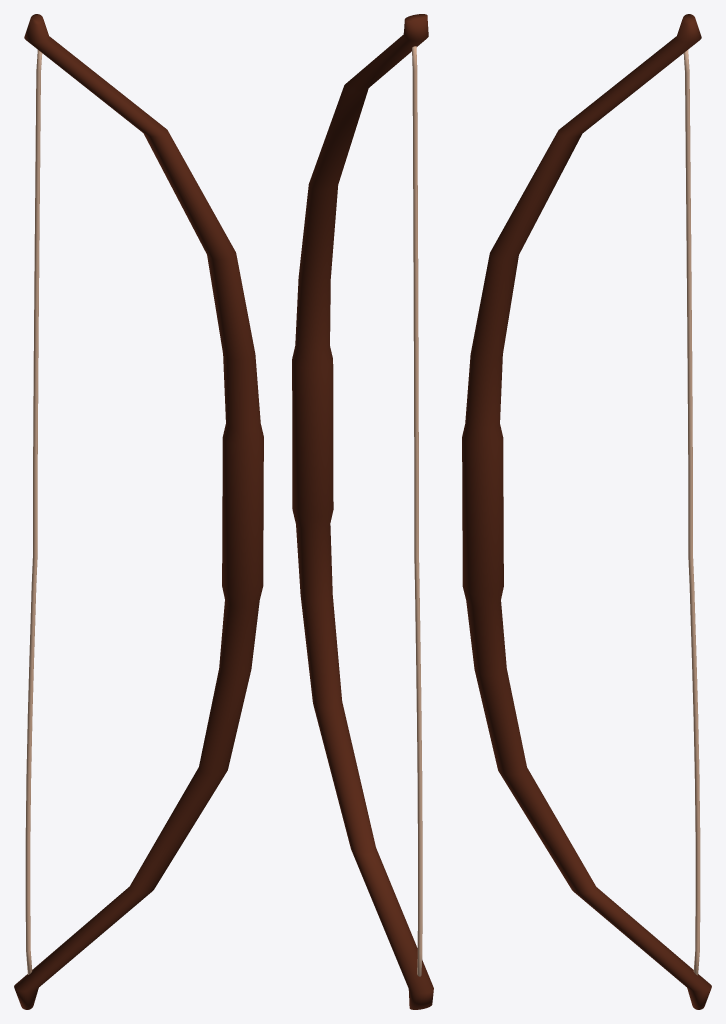
The model's file is bow.fbx.
The picture shows the model from 3 angles, left to right: view 1: azimuth 90°, elevation 25°; view 2: azimuth 210°, elevation 25°; view 3: azimuth 270°, elevation 25°; orthographic projection.
Parts seen in each view (by area): view 1: bow; view 2: bow; view 3: bow.
Part boxes in pixels (box(x1,y1,x2,y2)): bow: box(14, 14, 263, 1009); bow: box(292, 14, 433, 1009); bow: box(462, 14, 711, 1009).
Size of the model in its own units: 3.88 by 102 by 23.54.
1 material, 1 textured.
